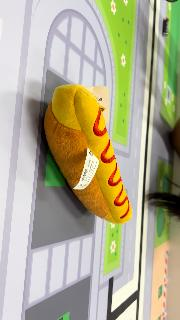hotdog: (43, 84, 132, 224)
